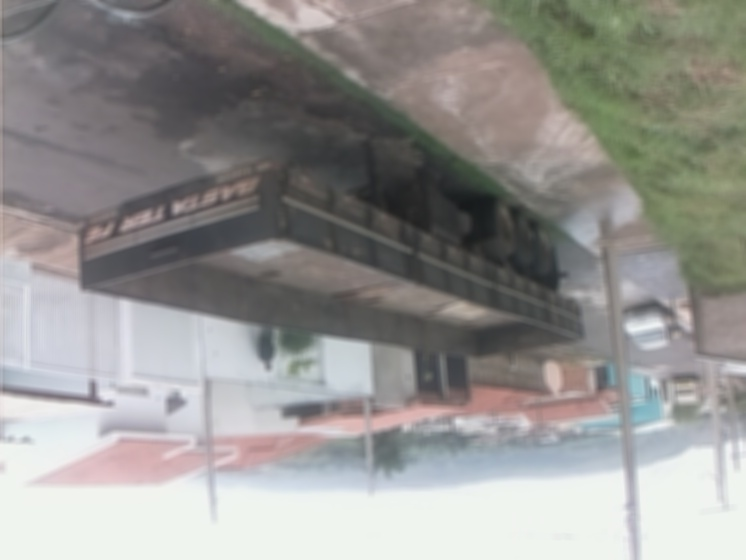person: (255, 323, 278, 374)
